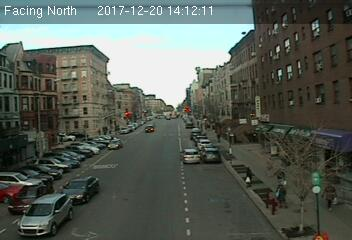car: (14, 192, 74, 235), (59, 175, 101, 203), (9, 186, 52, 213), (179, 147, 200, 163), (200, 147, 221, 163), (107, 139, 122, 149)
pedestrian: (323, 181, 340, 215), (243, 165, 255, 192), (276, 183, 288, 210)
